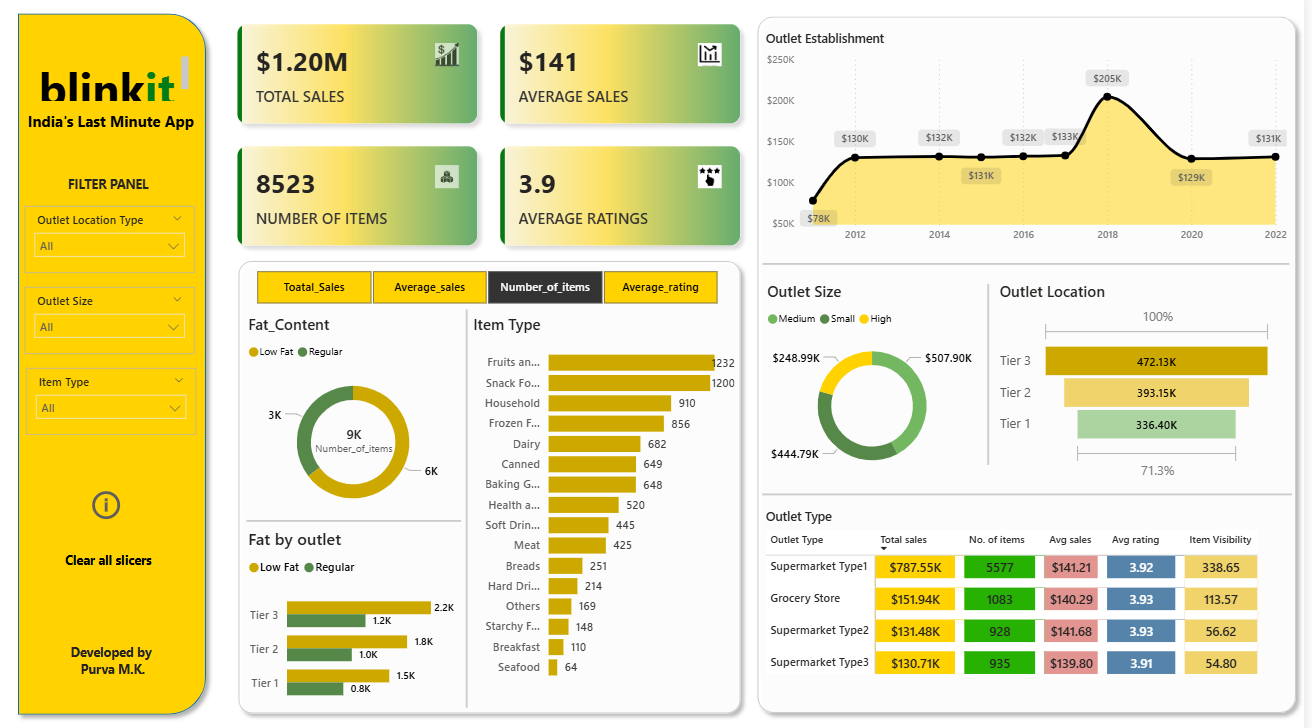

The page's visual inventory and layout, read from the dashboard file:
{"tool":"powerbi","page":{"name":"Page 1","canvas":[1400,800],"ordinal":0},"visuals":[{"type":"shape","box":[20,13.3,218.3,765],"z":0},{"type":"textbox","box":[45.7,62.9,170,57.1],"z":1000},{"type":"textbox","box":[35.1,119.9,202.6,33.1],"z":2000},{"type":"cardVisual","fields":{"Data":["blinkitdata.Toatal_Sales","blinkitdata.Average_sales","blinkitdata.Number_of_items","blinkitdata.Average_rating"]},"box":[246.7,16.7,570,271.7],"z":3000},{"type":"shape","box":[255.7,277.1,552.9,500],"z":4000},{"type":"donutChart","title":"Fat_Content","fields":{"Y":["blinkitdata.Number_of_items"],"Category":["blinkitdata.Item Fat Content"]},"box":[270,341.4,232.9,224.3],"z":5000},{"type":"slicer","fields":{"Values":["Metrics.Metrics"]},"box":[258.6,288.6,540,48.6],"z":6000},{"type":"cardVisual","fields":{"Data":["blinkitdata.Number_of_items"]},"box":[328.6,442.9,117.1,67.1],"z":7000},{"type":"clusteredBarChart","title":"Fat by outlet","fields":{"Y":["blinkitdata.Number_of_items"],"Category":["blinkitdata.Outlet Location Type"],"Series":["blinkitdata.Item Fat Content"]},"box":[270,568.8,228.8,200],"z":8000},{"type":"shape","box":[272.9,548.6,228.6,28.6],"z":9000},{"type":"shape","box":[504.3,337.1,5.7,424.3],"z":10000},{"type":"barChart","title":"Item Type","fields":{"Y":["blinkitdata.Number_of_items"],"Category":["blinkitdata.Item Type"]},"box":[510,341.4,288.6,398.6],"z":11000},{"type":"shape","box":[808.3,16.7,591.7,760],"z":12000},{"type":"lineChart","title":"Outlet Establishment","fields":{"Category":["blinkitdata.Outlet Establishment Year"],"Y":["blinkitdata.Total sales"]},"box":[821.5,38.1,564.8,235.2],"z":13000},{"type":"shape","box":[822.9,270,561.4,37.1],"z":14000},{"type":"donutChart","title":"Outlet Size","fields":{"Y":["blinkitdata.Total sales"],"Category":["blinkitdata.Outlet Size"]},"box":[822.9,307.1,232.9,217.1],"z":15000},{"type":"shape","box":[1055.7,310,14.3,192.9],"z":16000},{"type":"funnel","title":"Outlet Location","fields":{"Y":["Sum(blinkitdata.Sales)"],"Category":["blinkitdata.Outlet Location Type"]},"box":[1070,307.1,300,215.7],"z":17000},{"type":"shape","box":[822.9,517.1,564.3,32.9],"z":18000},{"type":"pivotTable","title":"Outlet Type","fields":{"Rows":["blinkitdata.Outlet Type"],"Values":["blinkitdata.Total sales","blinkitdata.Number_of_items","blinkitdata.Average_sales","blinkitdata.Average_rating","Sum(blinkitdata.Item Visibility)"]},"box":[821.4,548.6,562.9,212.9],"z":19000},{"type":"slicer","fields":{"Values":["blinkitdata.Outlet Location Type"]},"box":[37.5,226.2,181.2,71.2],"z":20000},{"type":"slicer","fields":{"Values":["blinkitdata.Outlet Size"]},"box":[37.5,312.5,181.2,71.2],"z":21000},{"type":"slicer","fields":{"Values":["blinkitdata.Item Type"]},"box":[38.8,400,181.2,71.2],"z":22000},{"type":"textbox","box":[73.8,188.8,105,35],"z":23000},{"type":"actionButton","box":[73.3,588.3,105,31.7],"z":24000},{"type":"actionButton","box":[104.3,525,39.7,39.7],"z":25000},{"type":"textbox","box":[60,686.7,140,53.3],"z":26000}]}

Visuals, with their boxes in screenshot pixels (x1, y1, x2, y2), scaled from the page's 1400x800 canvas onto the 1312x728 screenshot:
shape: x1=19 y1=12 x2=223 y2=708
textbox: x1=43 y1=57 x2=202 y2=109
textbox: x1=33 y1=109 x2=223 y2=139
cardVisual - blinkitdata.Toatal_Sales x blinkitdata.Average_sales: x1=231 y1=15 x2=765 y2=262
shape: x1=240 y1=252 x2=758 y2=707
"Fat_Content" donutChart: x1=253 y1=311 x2=471 y2=515
slicer - Metrics.Metrics: x1=242 y1=263 x2=748 y2=307
cardVisual - blinkitdata.Number_of_items: x1=308 y1=403 x2=418 y2=464
"Fat by outlet" clusteredBarChart: x1=253 y1=518 x2=467 y2=700
shape: x1=256 y1=499 x2=470 y2=525
shape: x1=473 y1=307 x2=478 y2=693
"Item Type" barChart: x1=478 y1=311 x2=748 y2=673
shape: x1=757 y1=15 x2=1311 y2=707
"Outlet Establishment" lineChart: x1=770 y1=35 x2=1299 y2=249
shape: x1=771 y1=246 x2=1297 y2=279
"Outlet Size" donutChart: x1=771 y1=279 x2=989 y2=477
shape: x1=989 y1=282 x2=1003 y2=458
"Outlet Location" funnel: x1=1003 y1=279 x2=1284 y2=476
shape: x1=771 y1=471 x2=1300 y2=500
"Outlet Type" pivotTable: x1=770 y1=499 x2=1297 y2=693
slicer - blinkitdata.Outlet Location Type: x1=35 y1=206 x2=205 y2=271
slicer - blinkitdata.Outlet Size: x1=35 y1=284 x2=205 y2=349
slicer - blinkitdata.Item Type: x1=36 y1=364 x2=206 y2=429
textbox: x1=69 y1=172 x2=168 y2=204
actionButton: x1=69 y1=535 x2=167 y2=564
actionButton: x1=98 y1=478 x2=135 y2=514
textbox: x1=56 y1=625 x2=187 y2=673
